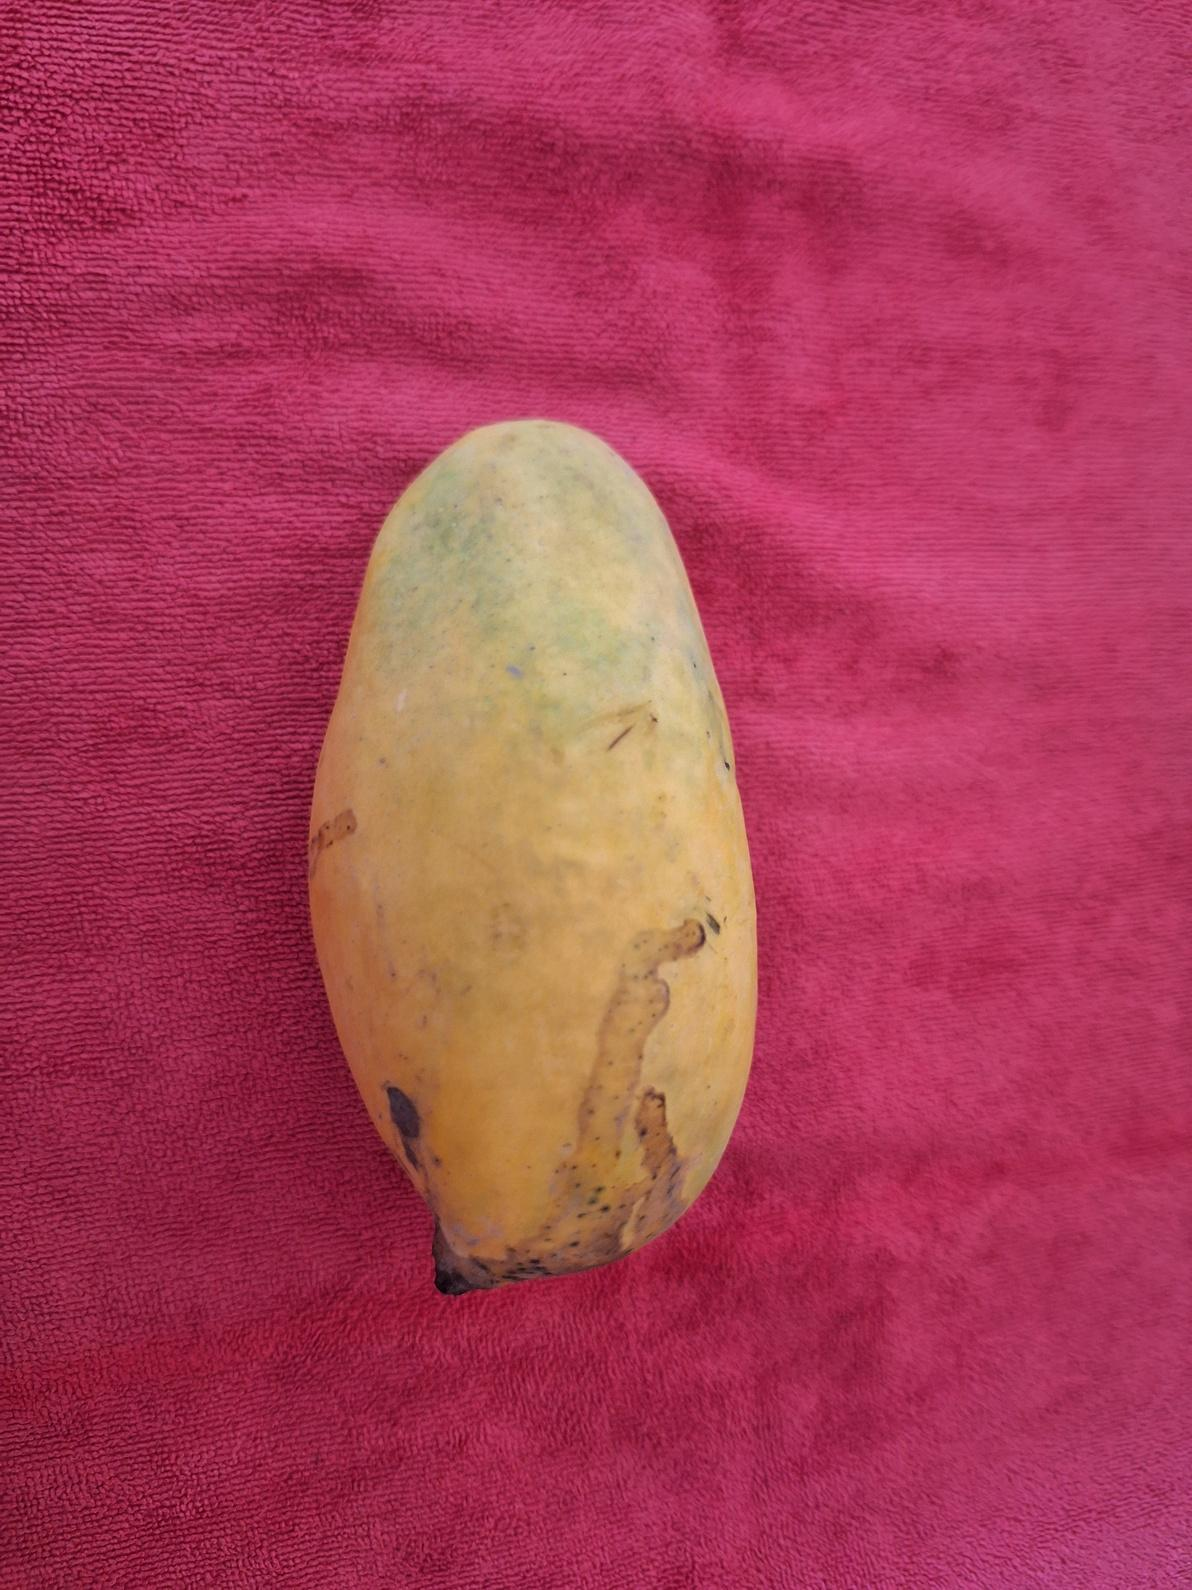mango: (304, 416, 760, 1295)
